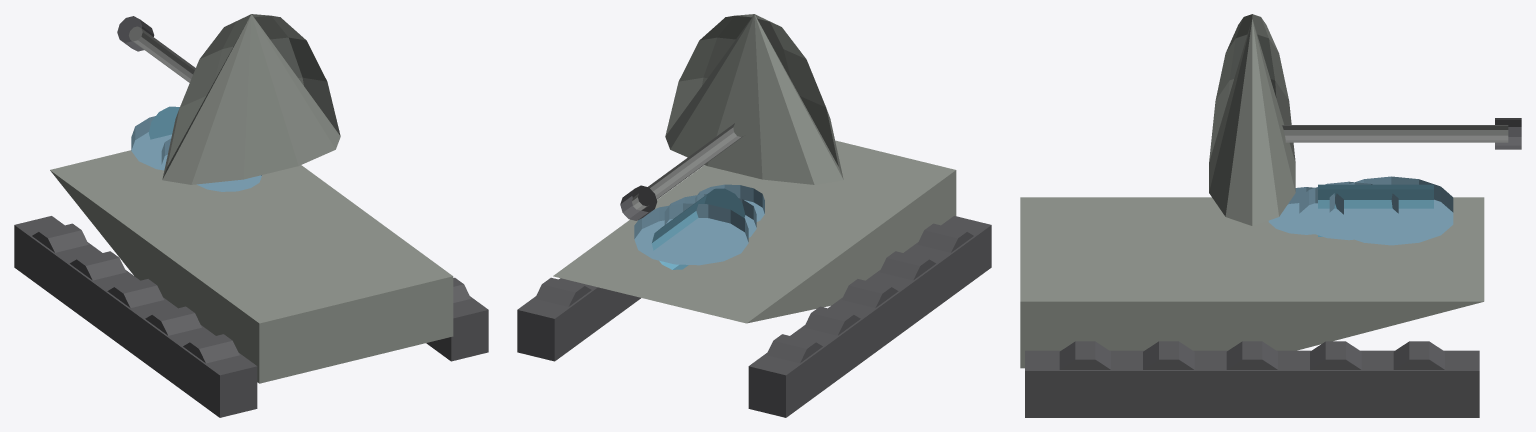
Rendered from soviet_electro.glb.
3 views of the same model, side by side, from view 1: azimuth 30°, elevation 25°; view 2: azimuth 150°, elevation 25°; view 3: azimuth 270°, elevation 25° (orthographic). The views are drawn at different scales.
Parts seen in each view (by area): view 1: hull, turret, track_l, track_r, barrel, coil.002, wheel_l04, wheel_l05, wheel_l02, wheel_l03, wheel_l01, emitter (+2 smaller); view 2: hull, turret, track_l, track_r, coil.002, barrel, emitter, coil.001, wheel_l02, wheel_l01, wheel_l03, wheel_l04 (+4 smaller); view 3: hull, track_r, turret, barrel, coil.001, coil.002, emitter, wheel_r04, wheel_r02, wheel_r05, wheel_r03, wheel_r01 (+2 smaller).
Boxes of the visible parts, bbox=[...] form: hull: bbox=[50, 150, 453, 383]; turret: bbox=[162, 14, 340, 184]; track_l: bbox=[14, 216, 257, 417]; track_r: bbox=[426, 296, 488, 361]; barrel: bbox=[129, 26, 195, 82]; coil.002: bbox=[131, 116, 171, 170]; wheel_l04: bbox=[70, 251, 126, 280]; wheel_l05: bbox=[32, 223, 88, 252]; wheel_l02: bbox=[145, 306, 201, 335]; wheel_l03: bbox=[107, 279, 163, 307]; wheel_l01: bbox=[183, 334, 239, 363]; emitter: bbox=[149, 106, 179, 139]; hull: bbox=[553, 140, 956, 323]; turret: bbox=[665, 14, 843, 184]; track_l: bbox=[748, 216, 991, 417]; track_r: bbox=[517, 278, 640, 361]; coil.002: bbox=[634, 203, 748, 265]; barrel: bbox=[632, 123, 743, 210]; emitter: bbox=[651, 188, 745, 269]; coil.001: bbox=[664, 194, 756, 244]; wheel_l02: bbox=[879, 251, 935, 280]; wheel_l01: bbox=[917, 223, 973, 252]; wheel_l03: bbox=[842, 279, 898, 307]; wheel_l04: bbox=[804, 306, 860, 335]; hull: bbox=[1020, 197, 1484, 368]; track_r: bbox=[1025, 350, 1479, 417]; turret: bbox=[1209, 14, 1295, 225]; barrel: bbox=[1282, 125, 1508, 142]; coil.001: bbox=[1299, 181, 1398, 240]; coil.002: bbox=[1329, 176, 1453, 245]; emitter: bbox=[1318, 184, 1433, 236]; wheel_r04: bbox=[1310, 341, 1361, 369]; wheel_r02: bbox=[1143, 341, 1194, 369]; wheel_r05: bbox=[1393, 341, 1444, 369]; wheel_r03: bbox=[1226, 341, 1277, 369]; wheel_r01: bbox=[1059, 341, 1110, 369].
Size of the model in its own units: 4.44 by 4.67 by 6.48.
